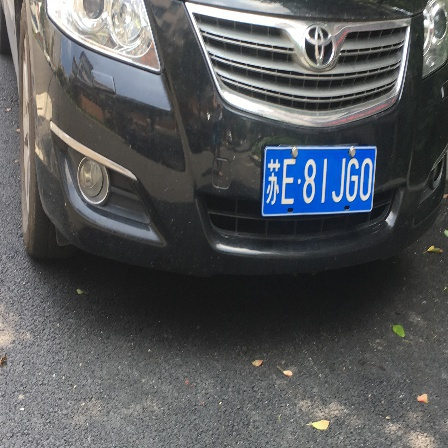plate: (263, 142, 380, 218)
